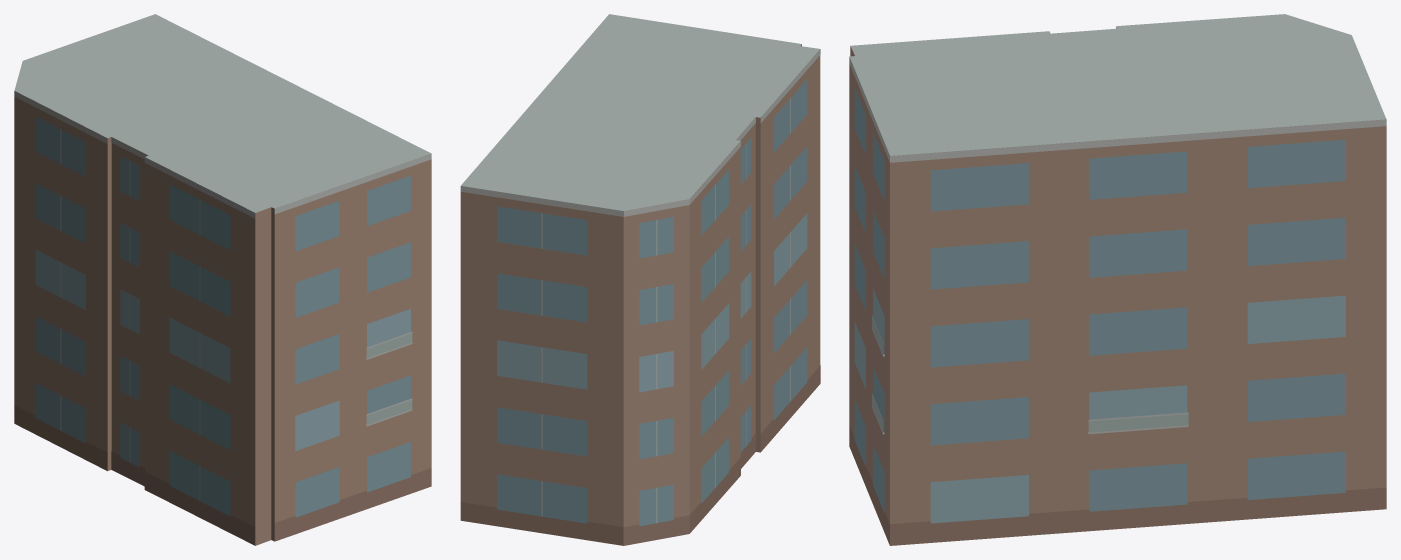
The model's file is survey-upis-32730222.glb.
3 views of the same model, side by side, from view 1: azimuth 30°, elevation 25°; view 2: azimuth 150°, elevation 25°; view 3: azimuth 270°, elevation 25° (orthographic). The views are drawn at different scales.
Parts seen in each view (by area): view 1: survey-upis-32730222.tmp; view 2: survey-upis-32730222.tmp; view 3: survey-upis-32730222.tmp.
Boxes of the visible parts, x1,y1,x2,y2 form: survey-upis-32730222.tmp: [14, 14, 431, 545]; survey-upis-32730222.tmp: [460, 14, 820, 545]; survey-upis-32730222.tmp: [849, 14, 1386, 545].
Size of the model in its own units: 10.95 by 14 by 17.49.
